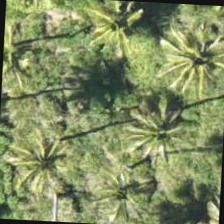Kelapa_Sawit: (0, 114, 95, 210), (108, 86, 202, 181), (74, 150, 170, 223), (151, 8, 223, 104), (75, 0, 169, 73), (0, 14, 52, 106)
